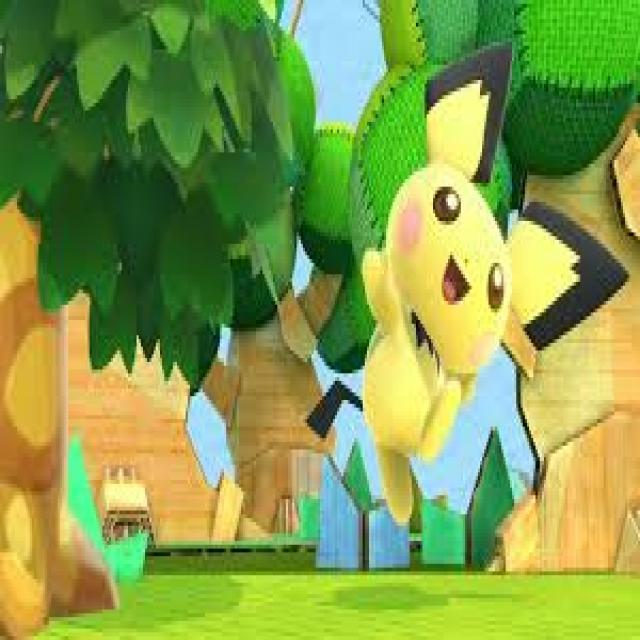pichu: (338, 41, 580, 516)
